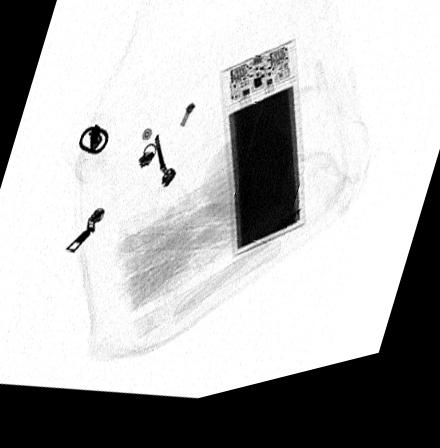Powerbank: (220, 51, 306, 269)
